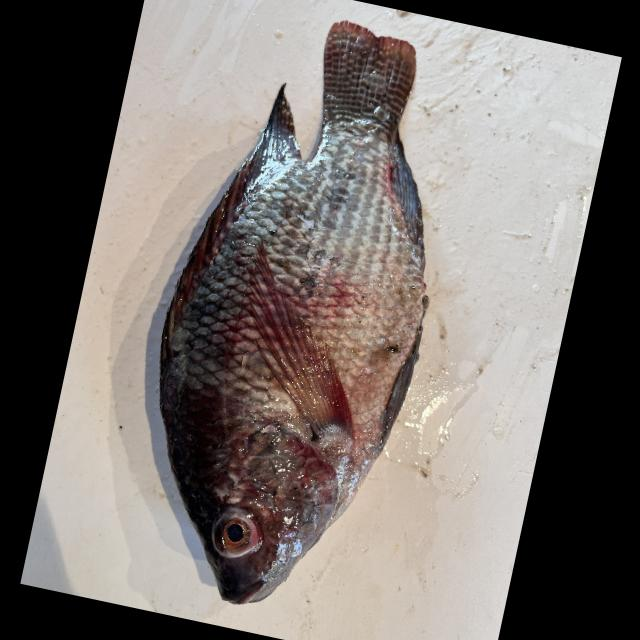Tilapia: (105, 0, 489, 632)
